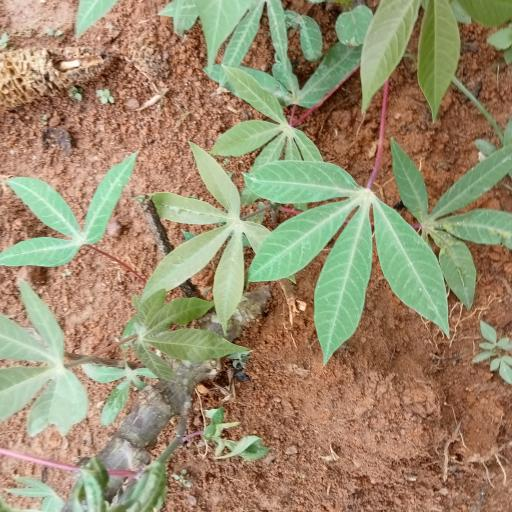Cassava_Mosaic: (240, 154, 450, 351), (2, 272, 94, 425), (1, 162, 129, 258)
